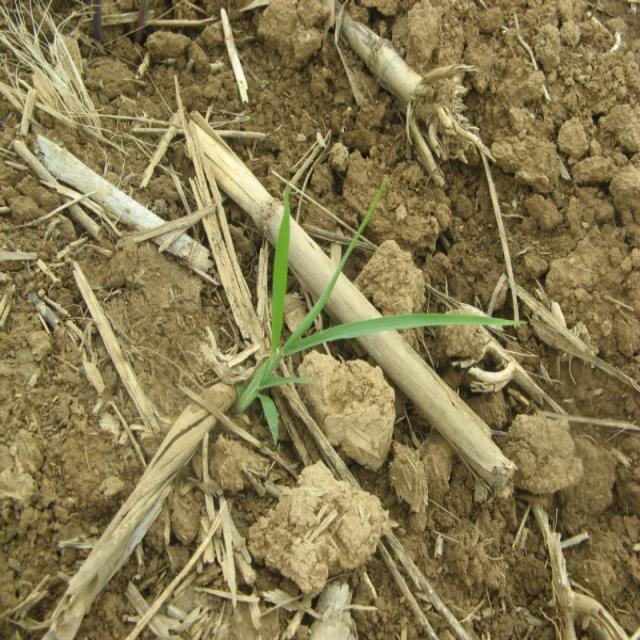bg: (241, 171, 524, 453)
